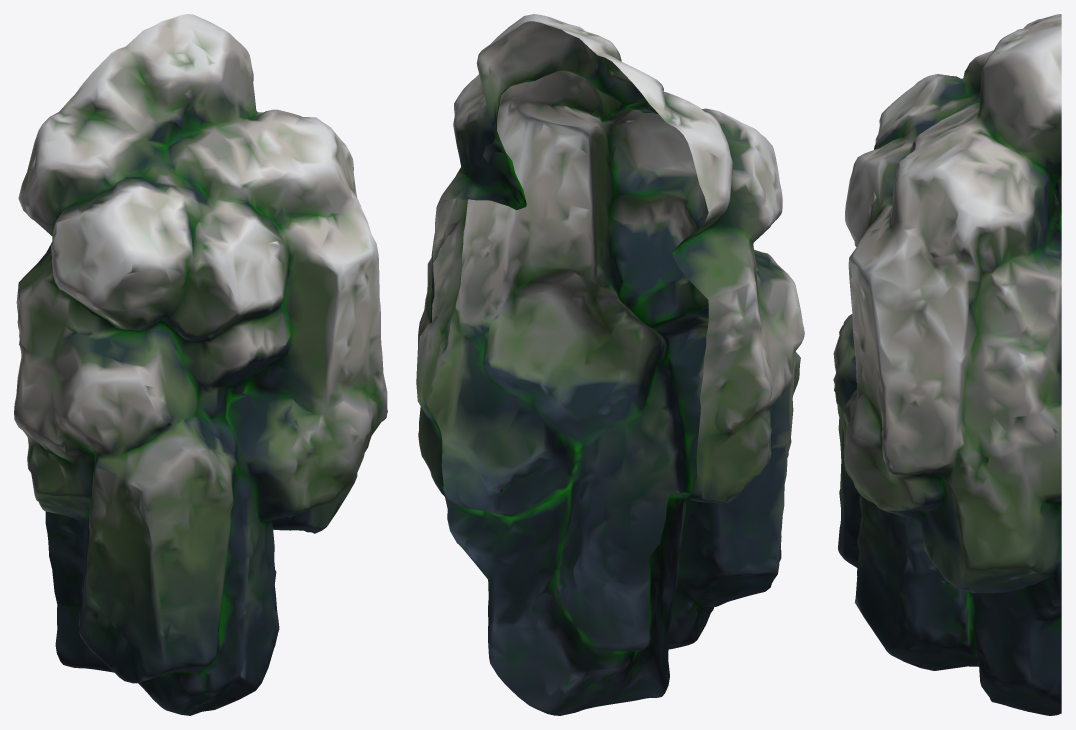
Rendered from M_Cliff_Rock_T20.fbx.
3 renders of one model, left to right at view 1: azimuth 30°, elevation 25°; view 2: azimuth 150°, elevation 25°; view 3: azimuth 270°, elevation 25°, orthographic. The views are drawn at different scales.
Parts seen in each view (by area): view 1: M_Cliff_Rock_T20; view 2: M_Cliff_Rock_T20; view 3: M_Cliff_Rock_T20.
Boxes of the visible parts, box(x1,y1,x2,y2) form: M_Cliff_Rock_T20: box(14, 14, 387, 715); M_Cliff_Rock_T20: box(416, 14, 804, 715); M_Cliff_Rock_T20: box(833, 14, 1061, 715).
Size of the model in its own units: 12.07 by 23.23 by 6.99.
